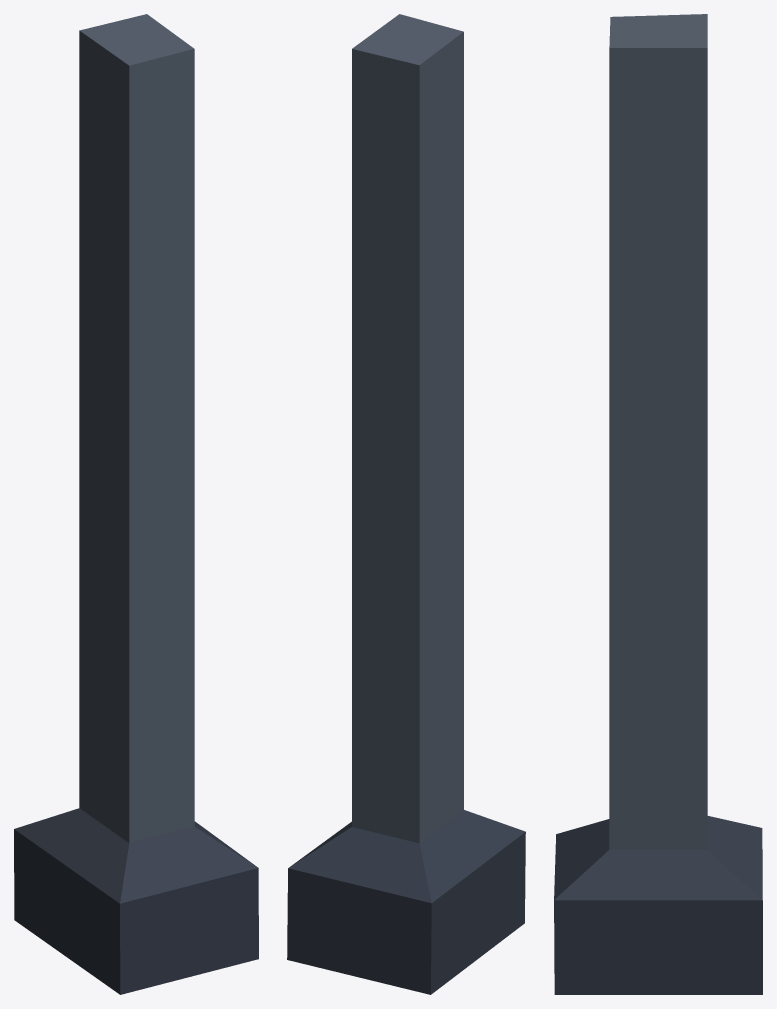
Rendered from Vent_2_A_8.fbx.
3 renders of one model, left to right at view 1: azimuth 30°, elevation 25°; view 2: azimuth 150°, elevation 25°; view 3: azimuth 270°, elevation 25°, orthographic. The views are drawn at different scales.
Parts seen in each view (by area): view 1: Vent_2_A_8; view 2: Vent_2_A_8; view 3: Vent_2_A_8.
Boxes of the visible parts, <box> form: Vent_2_A_8: <box>14,14,258,994</box>; Vent_2_A_8: <box>287,14,525,994</box>; Vent_2_A_8: <box>554,14,762,994</box>.
Bounding box in the file's own units: 12.25 × 73.28 × 14.91.
